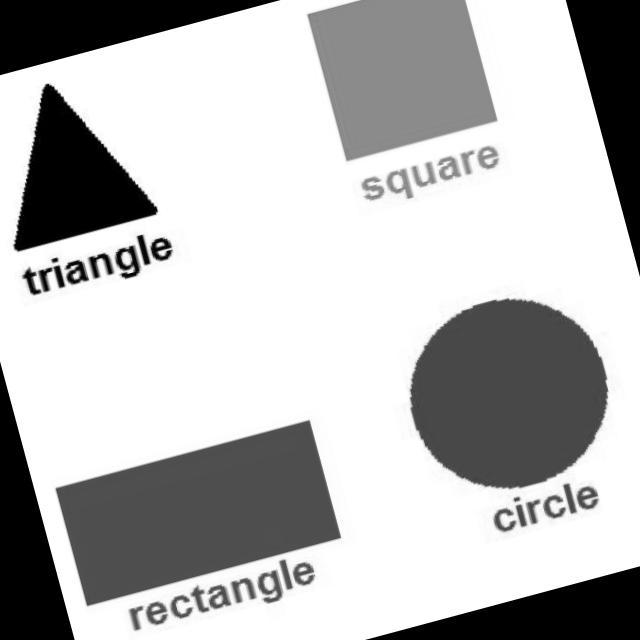circle: (399, 299, 612, 497)
square: (29, 408, 359, 614), (279, 0, 510, 174)
triangle: (8, 80, 172, 271)
